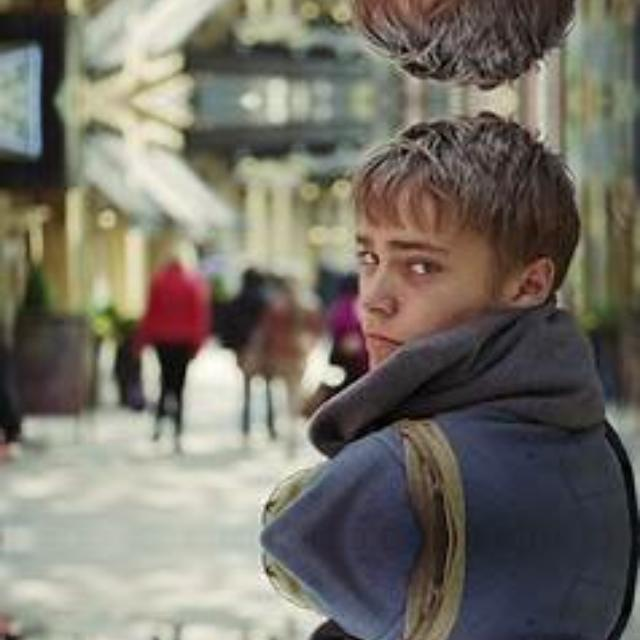person: (241, 126, 603, 538), (241, 538, 603, 640), (241, 0, 603, 74)
